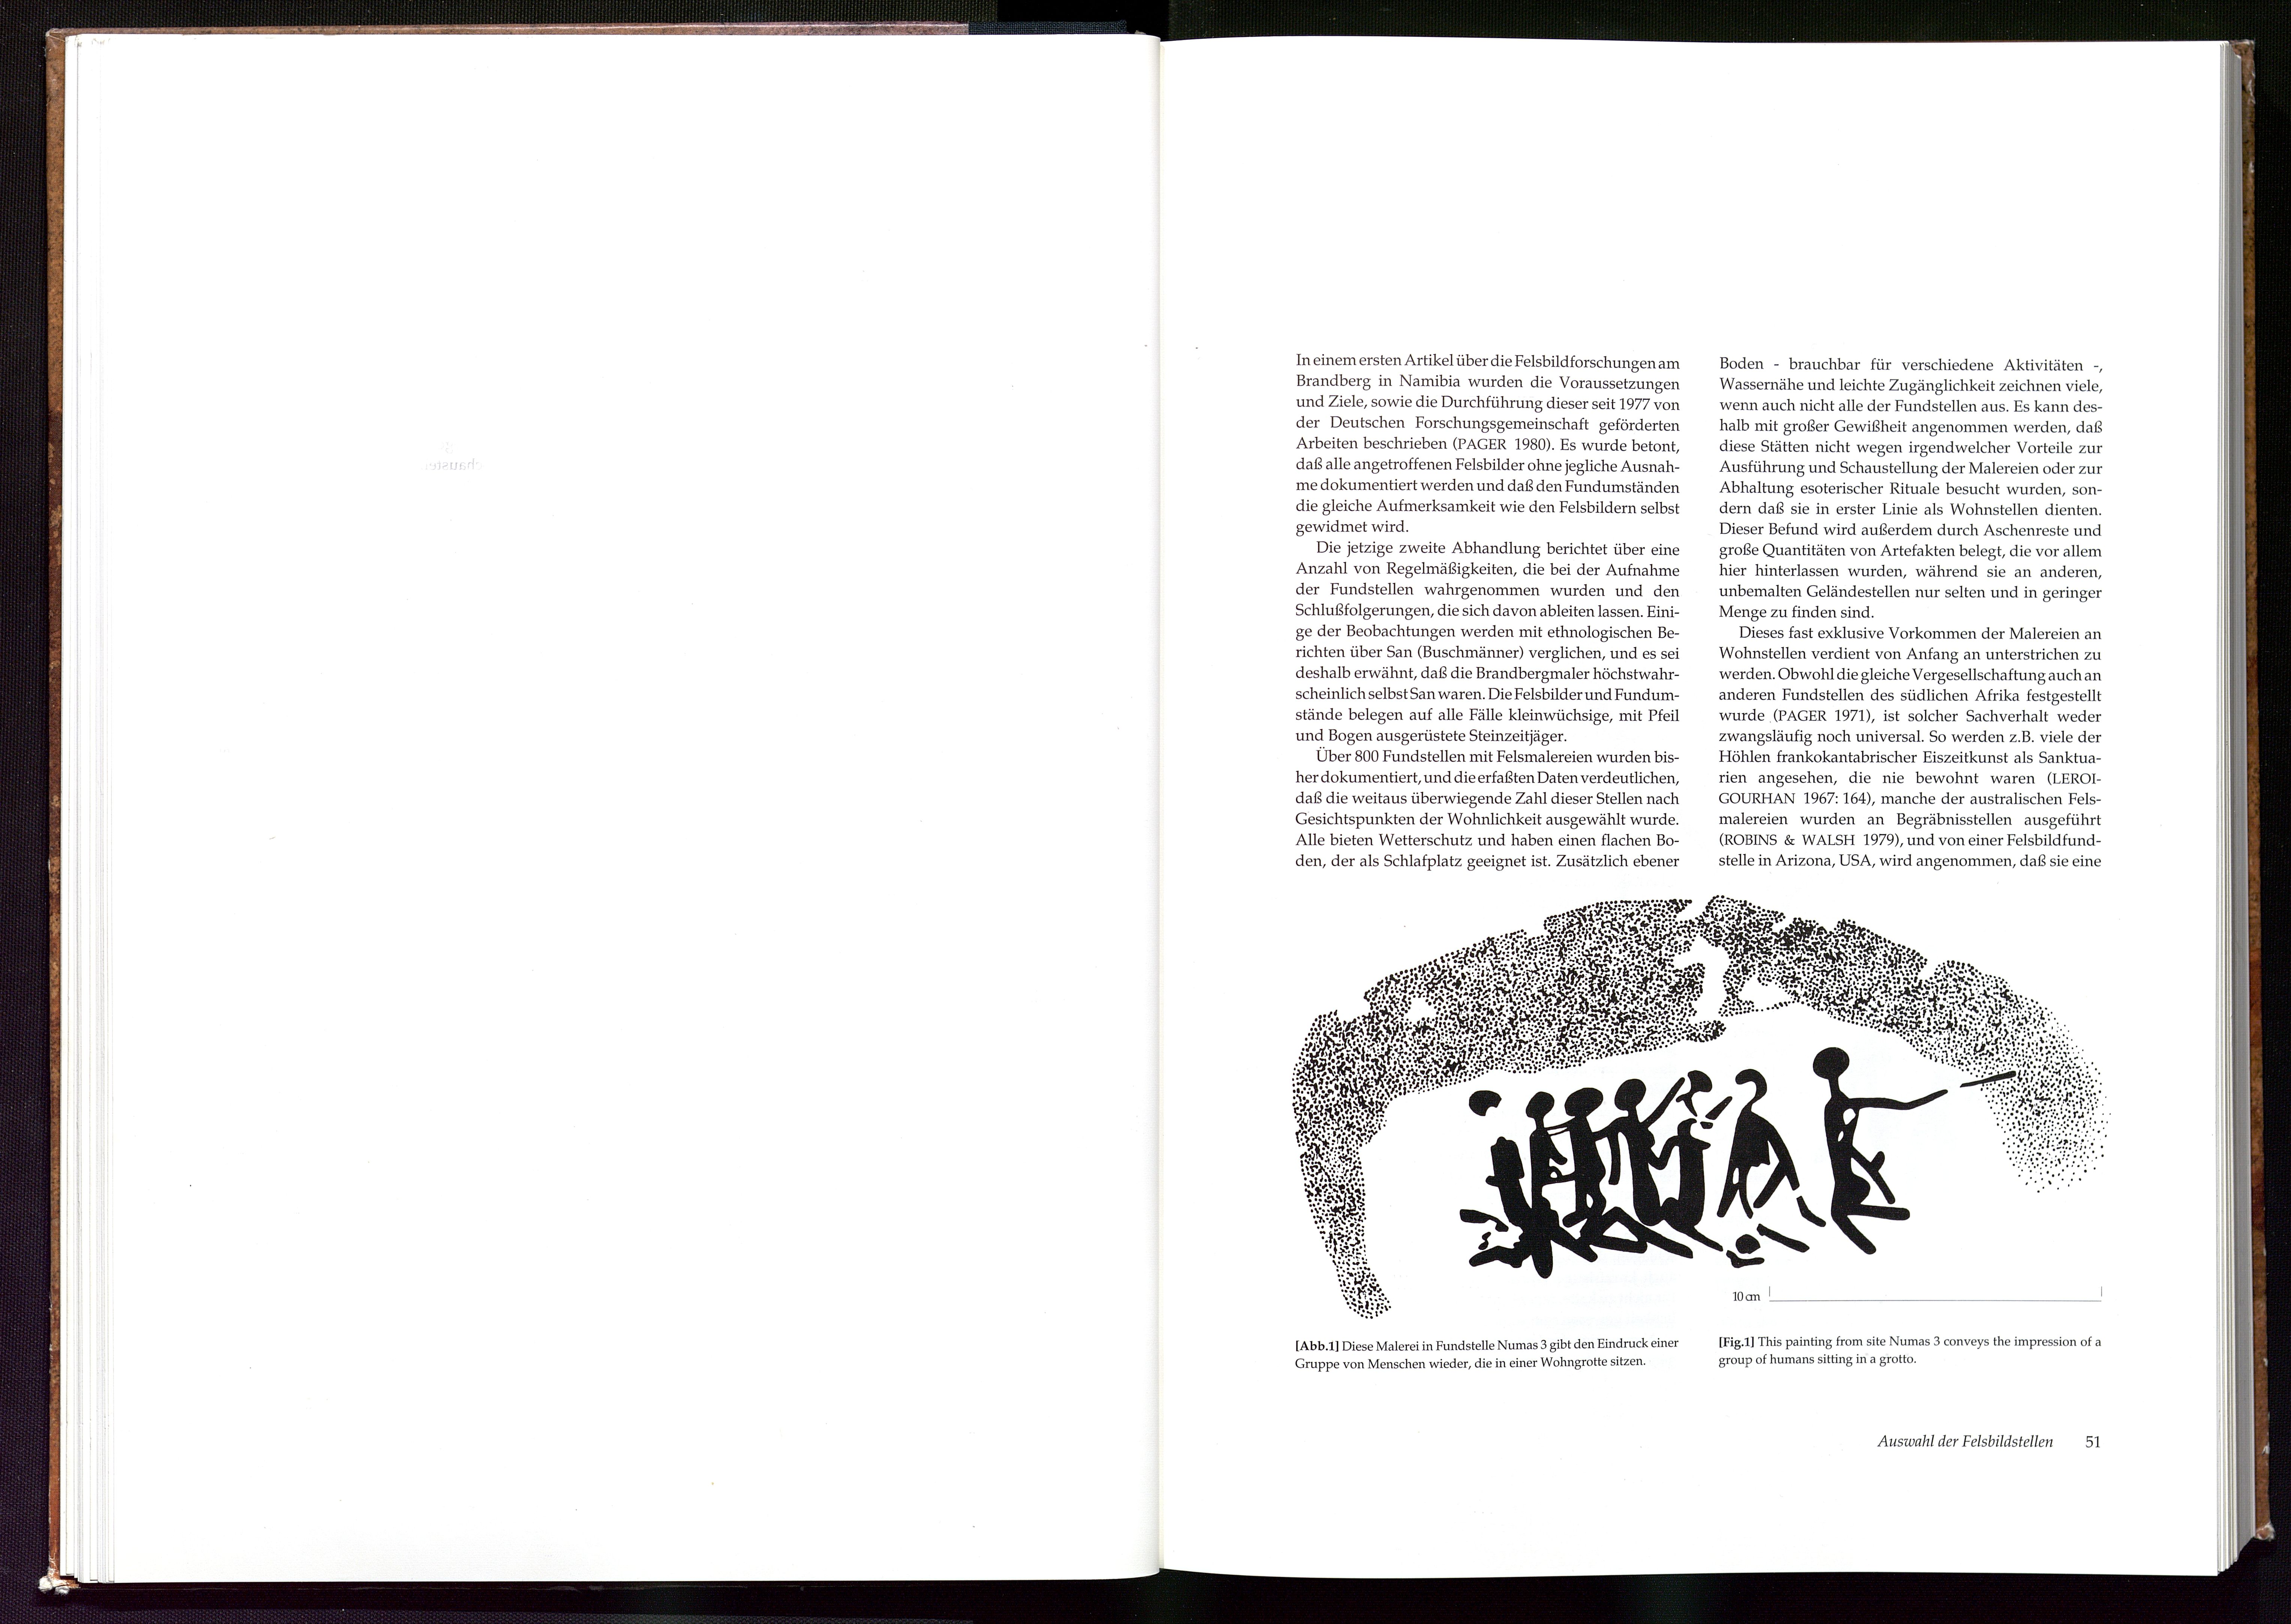human: (1811, 1045, 2023, 1259), (1535, 1082, 1696, 1279), (1606, 1078, 1768, 1270), (1714, 1069, 1828, 1259), (1453, 1088, 1553, 1279), (1519, 1085, 1597, 1280), (1657, 1067, 1733, 1234)
